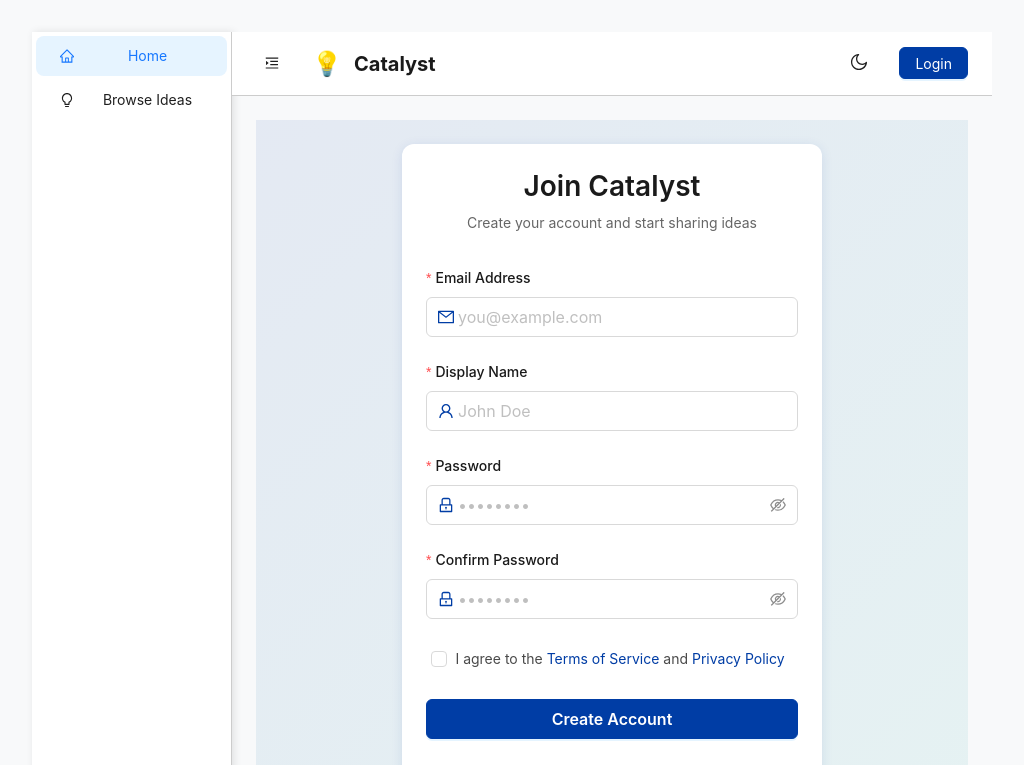
it: RegisterPage Component › should validate email field is required
Click the button with test id "register-submit" at (612, 719), box [426,699,798,739]
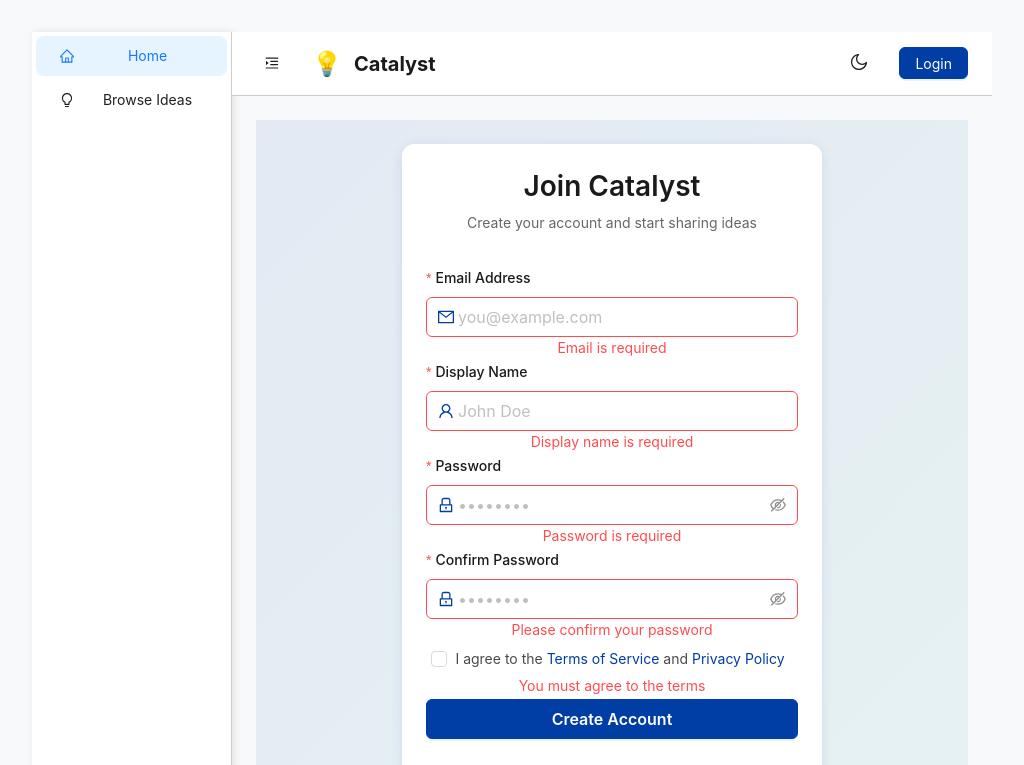
Expected: the text "Email is required" is shown, [557,339,667,356]
